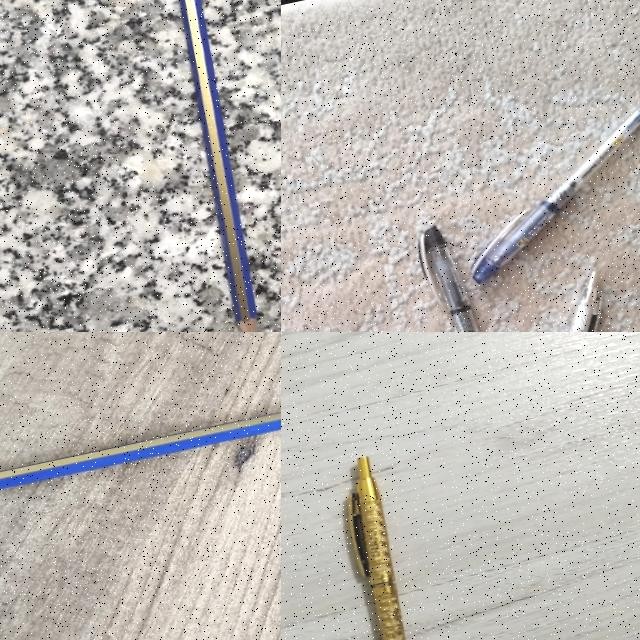pen: (450, 109, 640, 280), (415, 220, 508, 332)
pencil: (179, 0, 256, 331), (0, 413, 280, 490)
signature pen: (348, 457, 404, 639), (501, 271, 635, 332)
